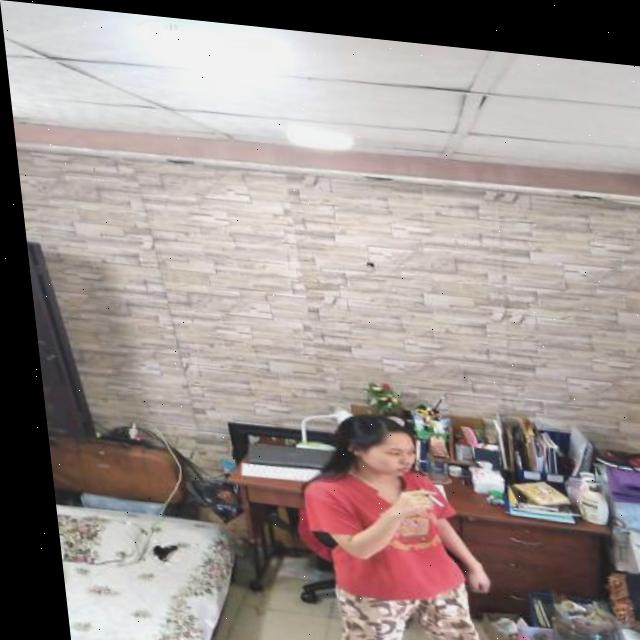cigarette: (414, 485, 434, 500)
